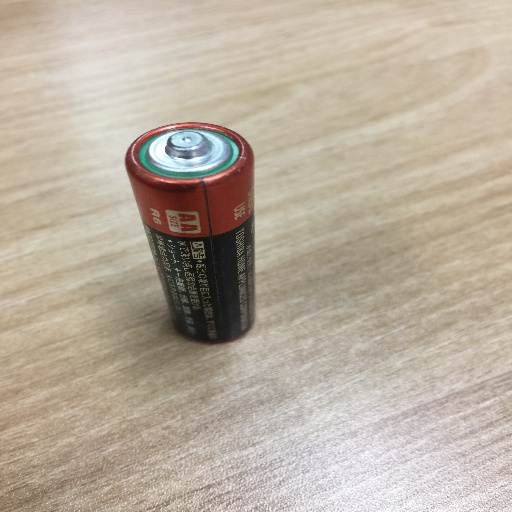Battery_0: (113, 111, 278, 354)
